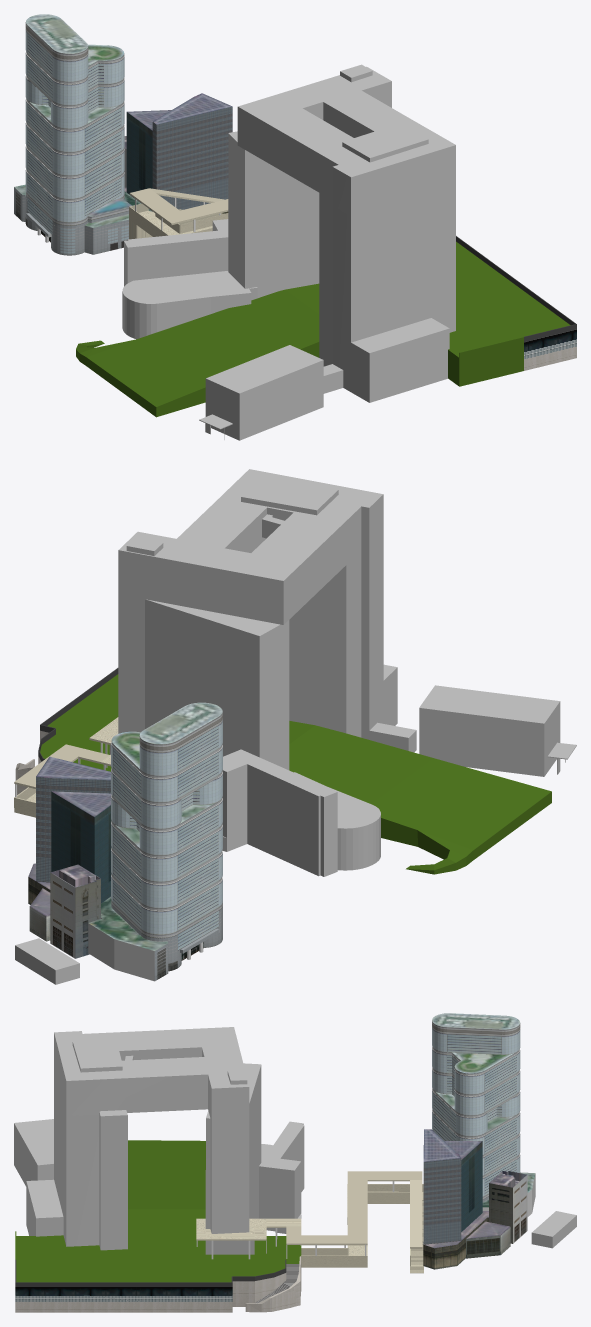
File: building3b.fbx
3 views of the same model, one above another, from view 1: azimuth 30°, elevation 25°; view 2: azimuth 150°, elevation 25°; view 3: azimuth 270°, elevation 25° (orthographic). The views are drawn at different scales.
Visible parts, largest first — view 1: china, back.002, B352631575201063A0.002, gov, B352351570301062A0.002, govBuilding, B352651574402062A0.002, cover.001, SIDE2.003; view 2: china, back.002, B352631575201063A0.002, gov, govBuilding, B352351570301062A0.002, B352651574402062A0.002, B352771570801062D0.001, B353071570201062C0.001, cover.001, B352481568301062F0.002; view 3: china, back.002, B352631575201063A0.002, B352351570301062A0.002, cover.001, gov, govBuilding, SIDE2.003, B352771570801062D0.001, cover, B352381569802062F0.002, B352481568301062F0.002 (+5 smaller).
Boxes of the visible parts, bbox=[...] form: china: bbox=[228, 64, 455, 402]; back.002: bbox=[76, 236, 576, 417]; B352631575201063A0.002: bbox=[25, 14, 124, 222]; gov: bbox=[122, 219, 257, 339]; B352351570301062A0.002: bbox=[126, 93, 232, 211]; govBuilding: bbox=[199, 345, 323, 440]; B352651574402062A0.002: bbox=[14, 184, 151, 255]; cover.001: bbox=[129, 188, 228, 225]; SIDE2.003: bbox=[129, 203, 228, 239]; china: bbox=[118, 469, 416, 770]; back.002: bbox=[38, 668, 551, 874]; B352631575201063A0.002: bbox=[111, 702, 222, 934]; gov: bbox=[222, 749, 380, 876]; govBuilding: bbox=[419, 685, 576, 776]; B352351570301062A0.002: bbox=[36, 756, 111, 903]; B352651574402062A0.002: bbox=[88, 897, 222, 981]; B352771570801062D0.001: bbox=[50, 864, 100, 958]; B353071570201062C0.001: bbox=[15, 938, 79, 984]; cover.001: bbox=[14, 744, 110, 788]; B352481568301062F0.002: bbox=[29, 888, 50, 941]; china: bbox=[26, 1027, 261, 1250]; back.002: bbox=[15, 1140, 301, 1312]; B352631575201063A0.002: bbox=[432, 1013, 520, 1196]; B352351570301062A0.002: bbox=[423, 1129, 482, 1244]; cover.001: bbox=[266, 1171, 422, 1248]; gov: bbox=[259, 1121, 304, 1233]; govBuilding: bbox=[14, 1119, 53, 1186]; SIDE2.003: bbox=[301, 1184, 423, 1267]; B352771570801062D0.001: bbox=[489, 1171, 527, 1243]; cover: bbox=[196, 1218, 266, 1254]; B352381569802062F0.002: bbox=[423, 1211, 488, 1269]; B352481568301062F0.002: bbox=[466, 1221, 510, 1258].
Bounding box in the file's own units: 5162 × 3058 × 7493.
